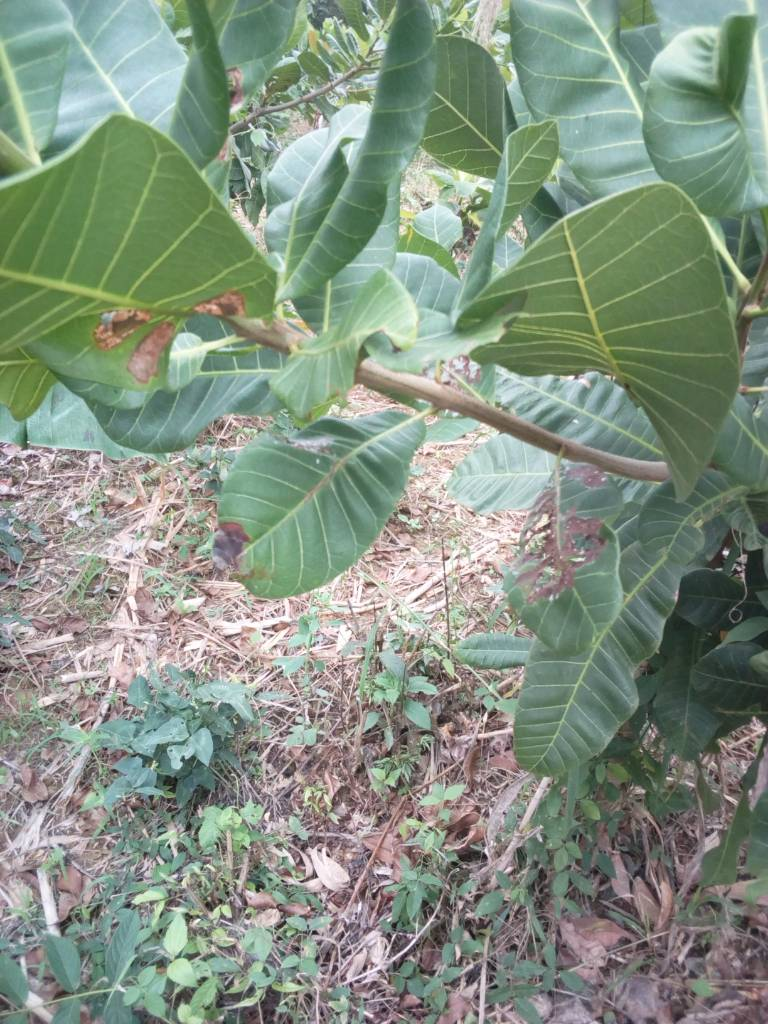Dysdercus wolkerii: (175, 408, 427, 610)
